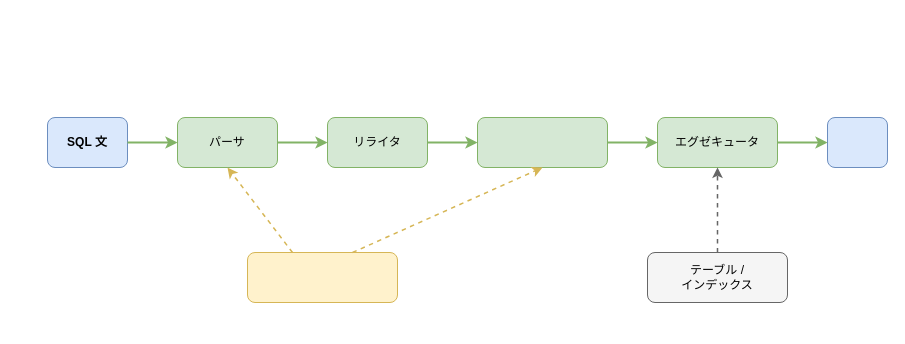
Image size: 905x344. Some labels were removed from this diagram. The shapes that lost their labels are listed below. From the top down, each one's box as (x1, y1, x2, y2) in pixels, then its label:
(476, 116, 608, 168): プランナ / オプティマイザ
(826, 116, 888, 168): 結果
(246, 252, 398, 302): システムカタログ
